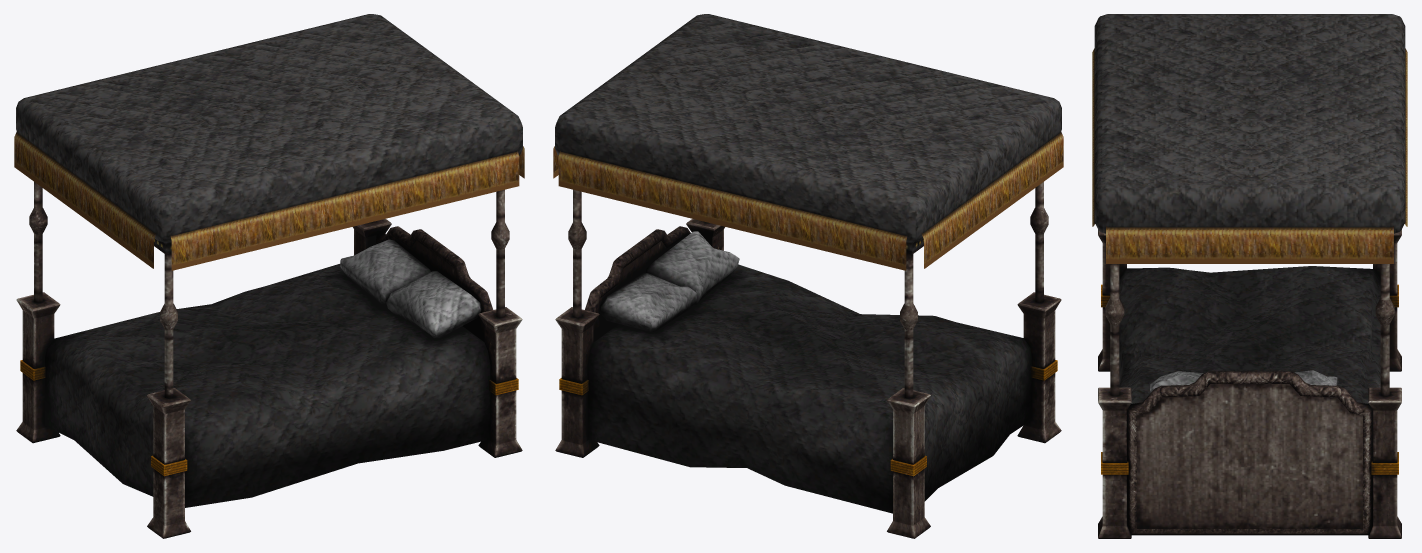
File: bed_nice_old.dae
3 views of the same model, side by side, from view 1: azimuth 30°, elevation 25°; view 2: azimuth 150°, elevation 25°; view 3: azimuth 270°, elevation 25° (orthographic). The views are drawn at different scales.
Parts seen in each view (by area): view 1: bed_nice_mesh; view 2: bed_nice_mesh; view 3: bed_nice_mesh.
Part boxes in pixels (x1,y1,x2,y2): bed_nice_mesh: [14, 14, 524, 538]; bed_nice_mesh: [553, 14, 1063, 538]; bed_nice_mesh: [1092, 14, 1407, 538].
Bounding box in the file's own units: 3.42 × 2.95 × 2.43.
